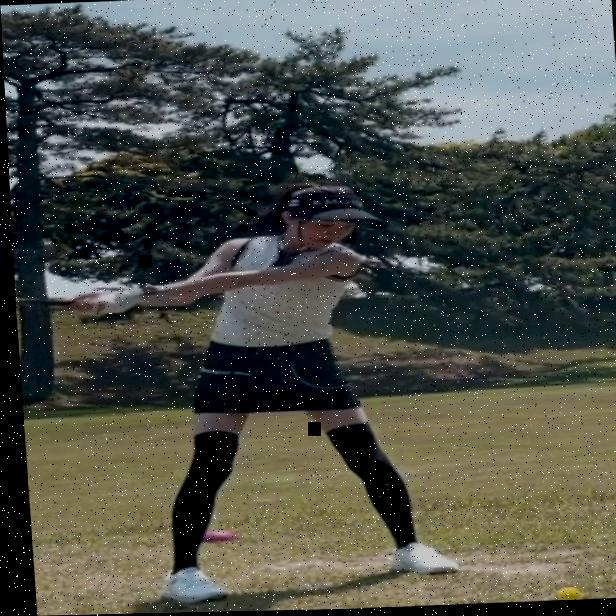GolfBall: (549, 590, 574, 603)
